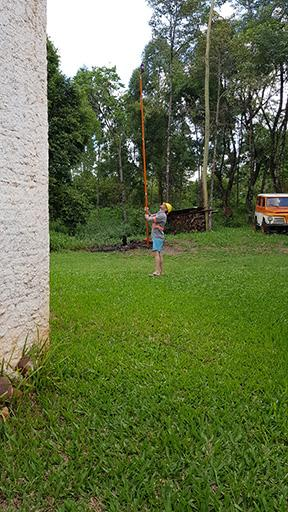Vara_Manobra: (138, 76, 150, 248)
